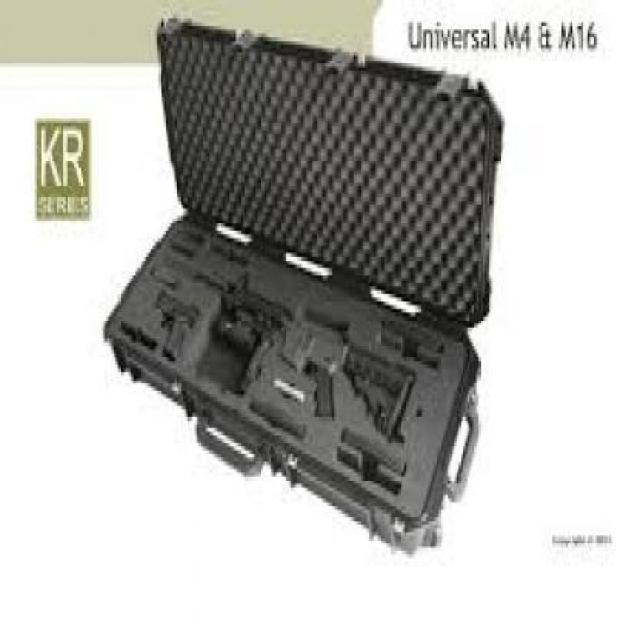weapon: (157, 290, 204, 364)
